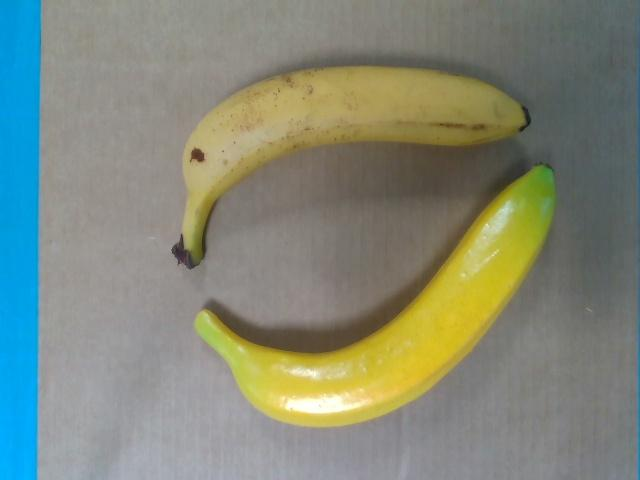banana: (195, 166, 557, 428), (174, 64, 532, 268)
